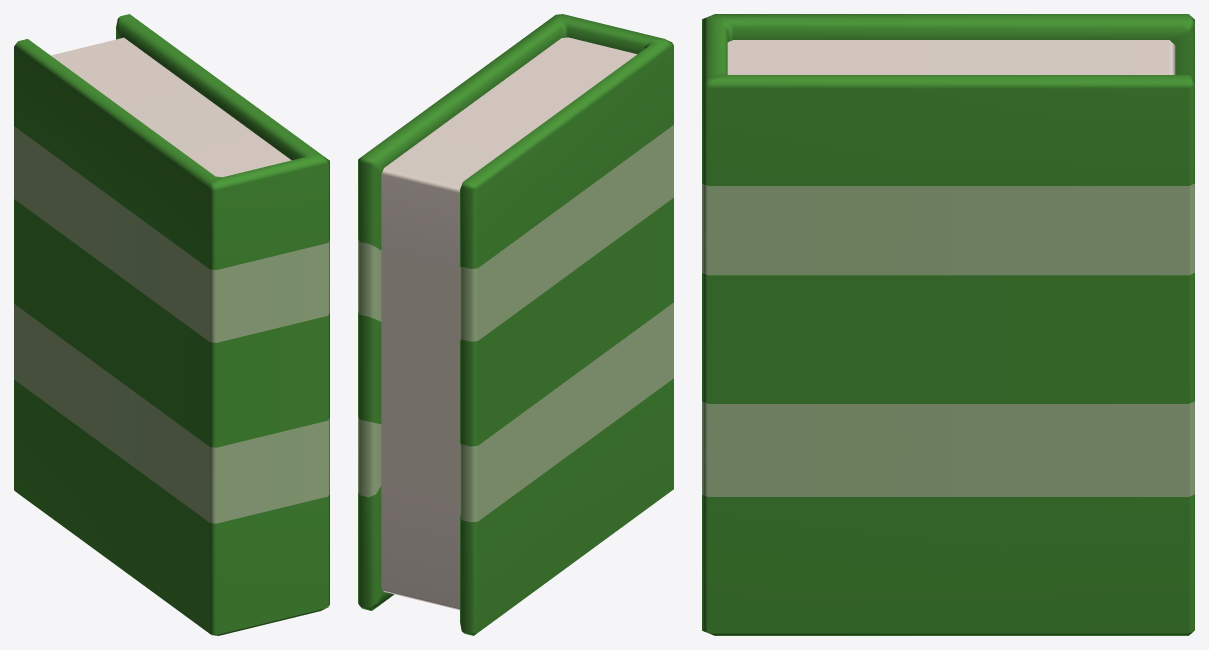
File: Book_12.glb
3 views of the same model, side by side, from view 1: azimuth 30°, elevation 25°; view 2: azimuth 150°, elevation 25°; view 3: azimuth 270°, elevation 25° (orthographic). The views are drawn at different scales.
Visible parts, largest first — view 1: Book_12; view 2: Book_12; view 3: Book_12.
Boxes of the visible parts, box(x1,y1,x2,y2) form: Book_12: box(14, 14, 329, 635); Book_12: box(358, 14, 673, 635); Book_12: box(702, 14, 1194, 635).
Size of the model in its own units: 0.0869 by 0.3133 by 0.252.
Materials: 1 (1 with a texture image).
